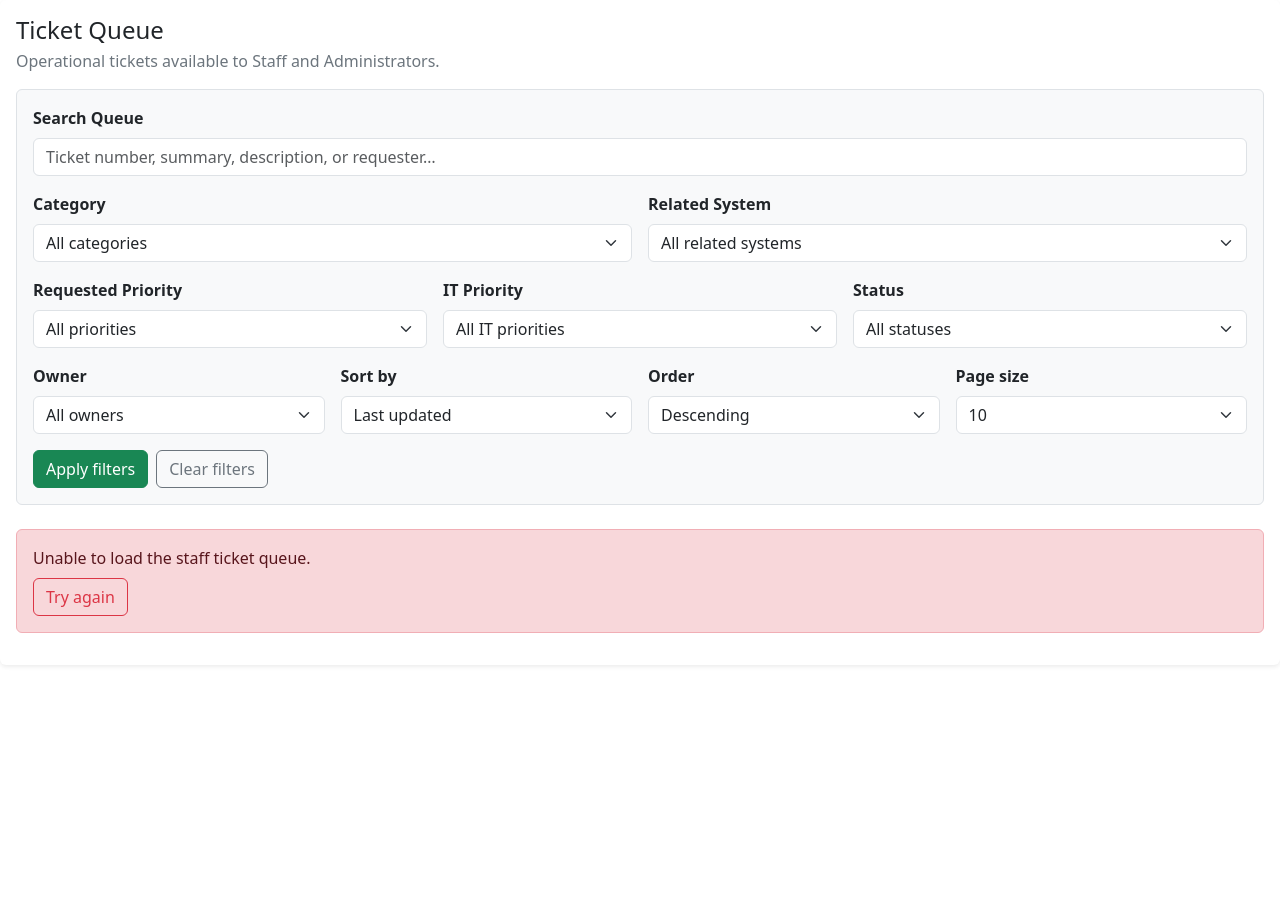
Test: Staff Ticket Queue UI › shows no-results and retryable failure states
This screenshot has width=1280, height=900.
Check: the message shows "Unable to load the staff ticket queue.", box [33, 547, 311, 569]
Click the button "Try again" at (80, 597), box [33, 578, 128, 616]
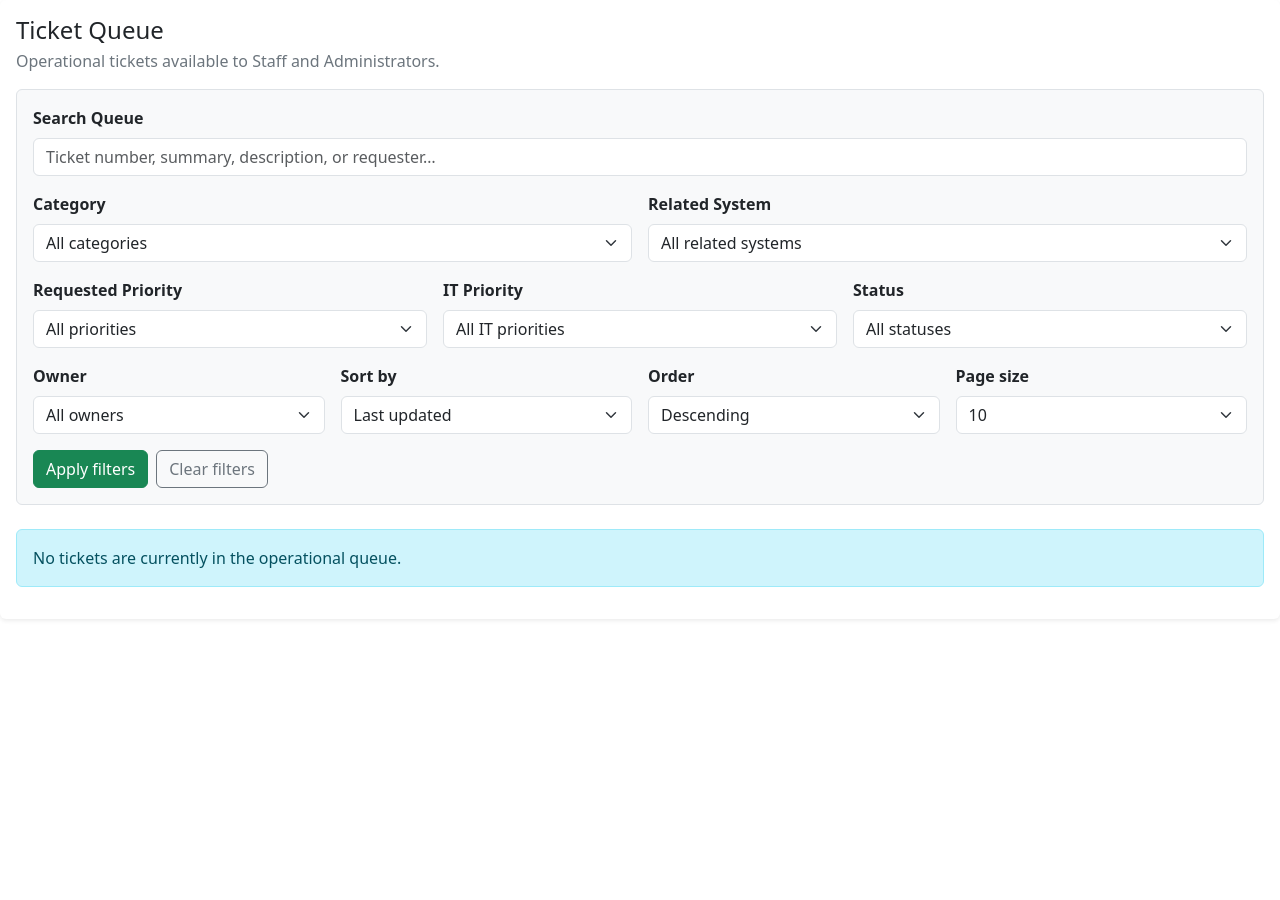
Check: the text "No tickets are currently in the operational queue." is shown, box [16, 529, 1264, 587]
